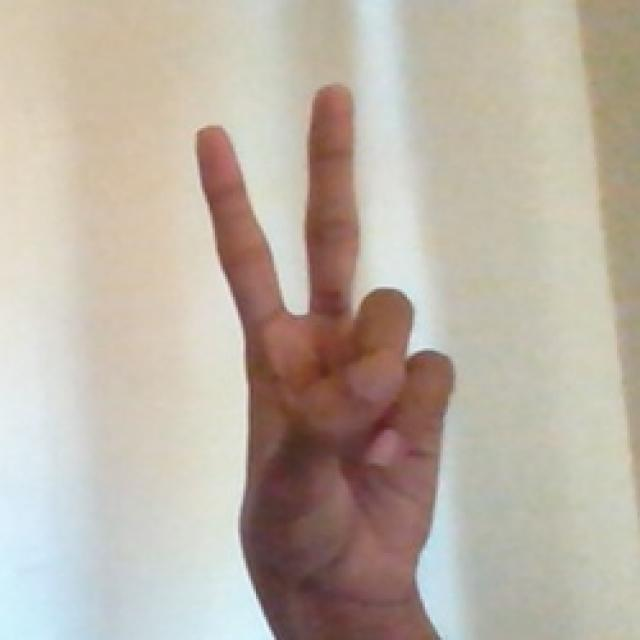Numeric-2: (191, 74, 454, 612)
